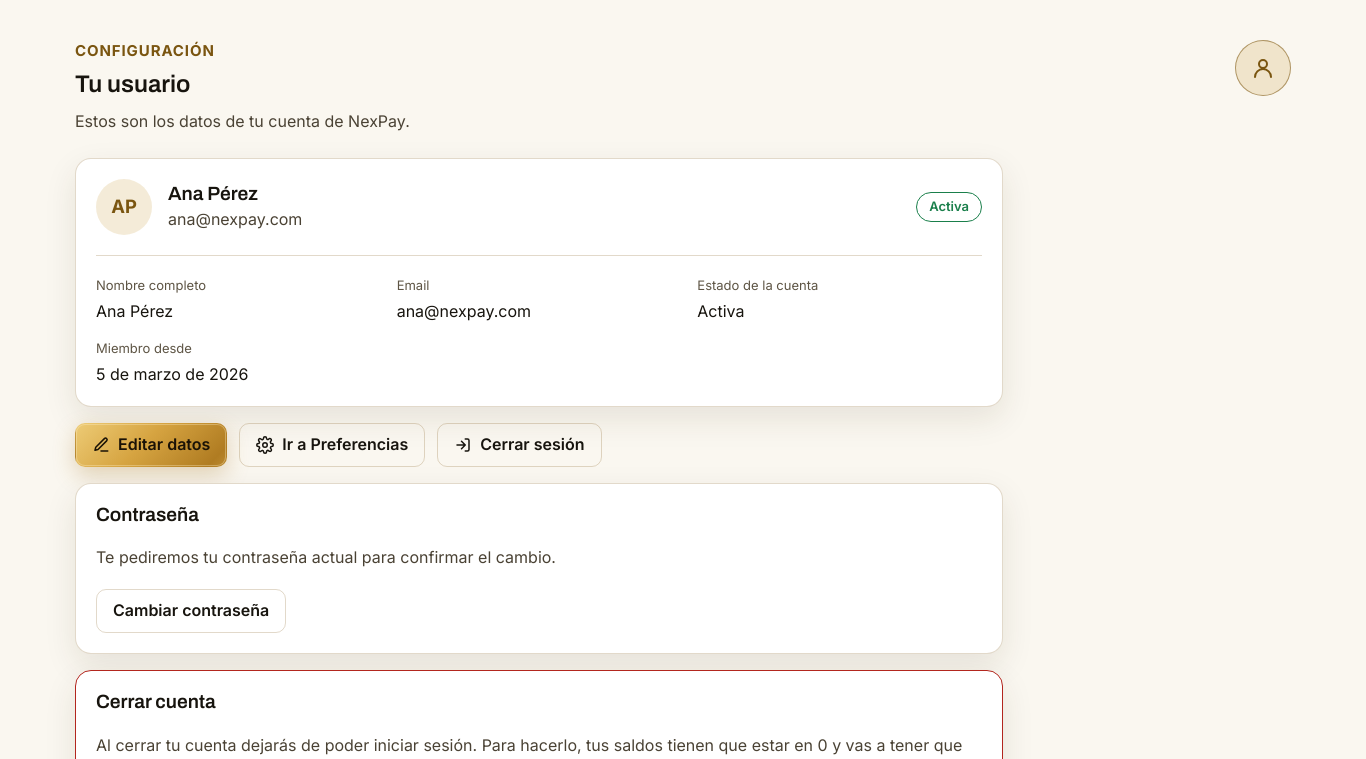
Usuario: editar datos › cambiar el email consulta su disponibilidad y lo envía
Click the button "Editar datos" at (151, 444), box [75,422,227,466]
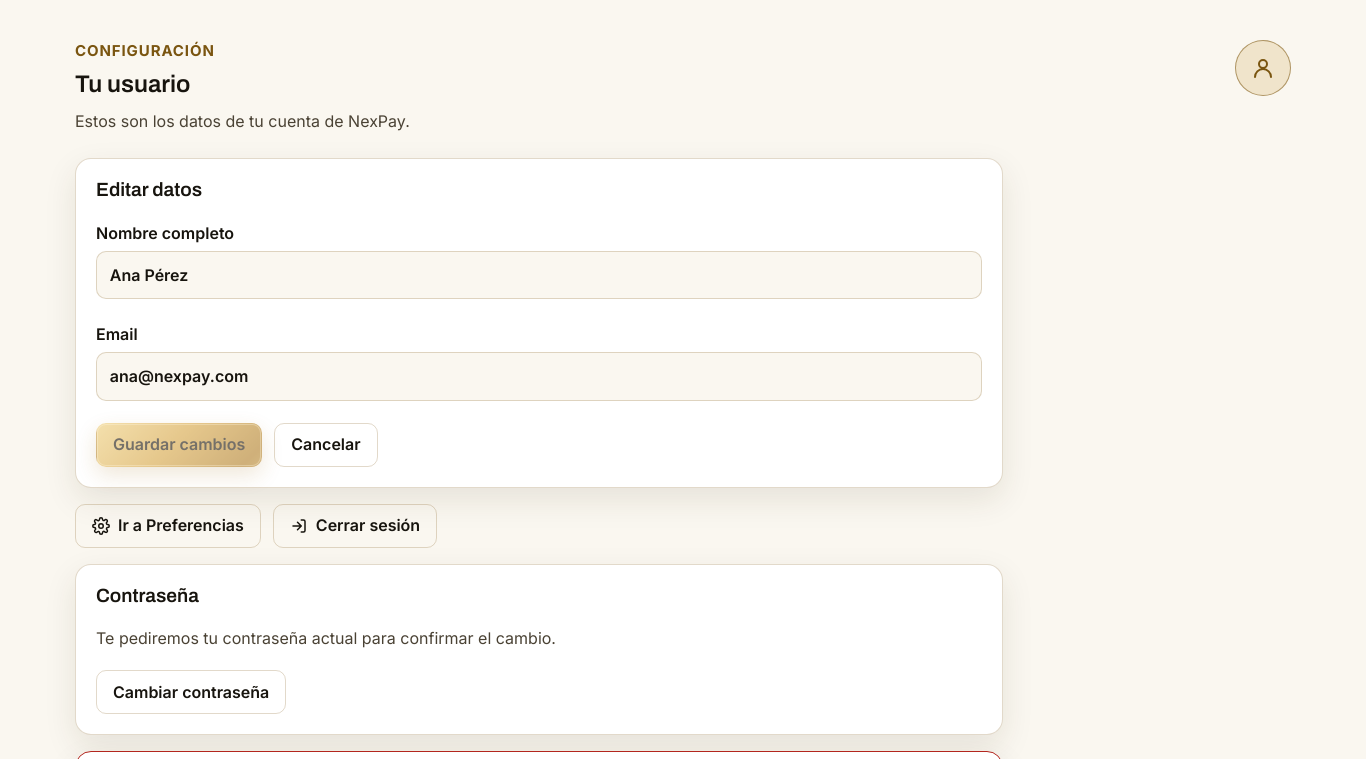
Replace the text in the field labelled "Email" with "nueva@nexpay.com" at (539, 376), box [96,352,982,401]
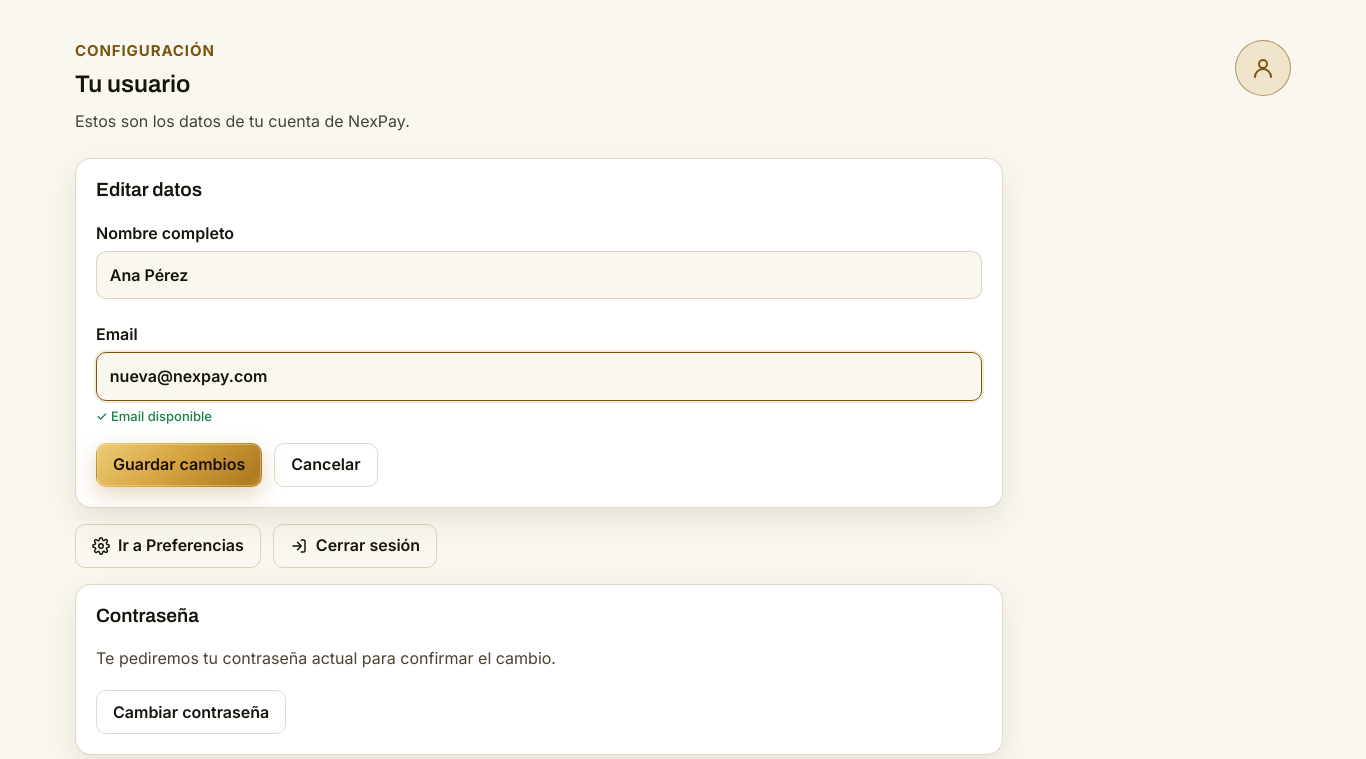
Expected: the text "✓ Email disponible" is shown, [96,408,212,424]
Click the button "Guardar cambios" at (179, 465), box [96,443,262,487]
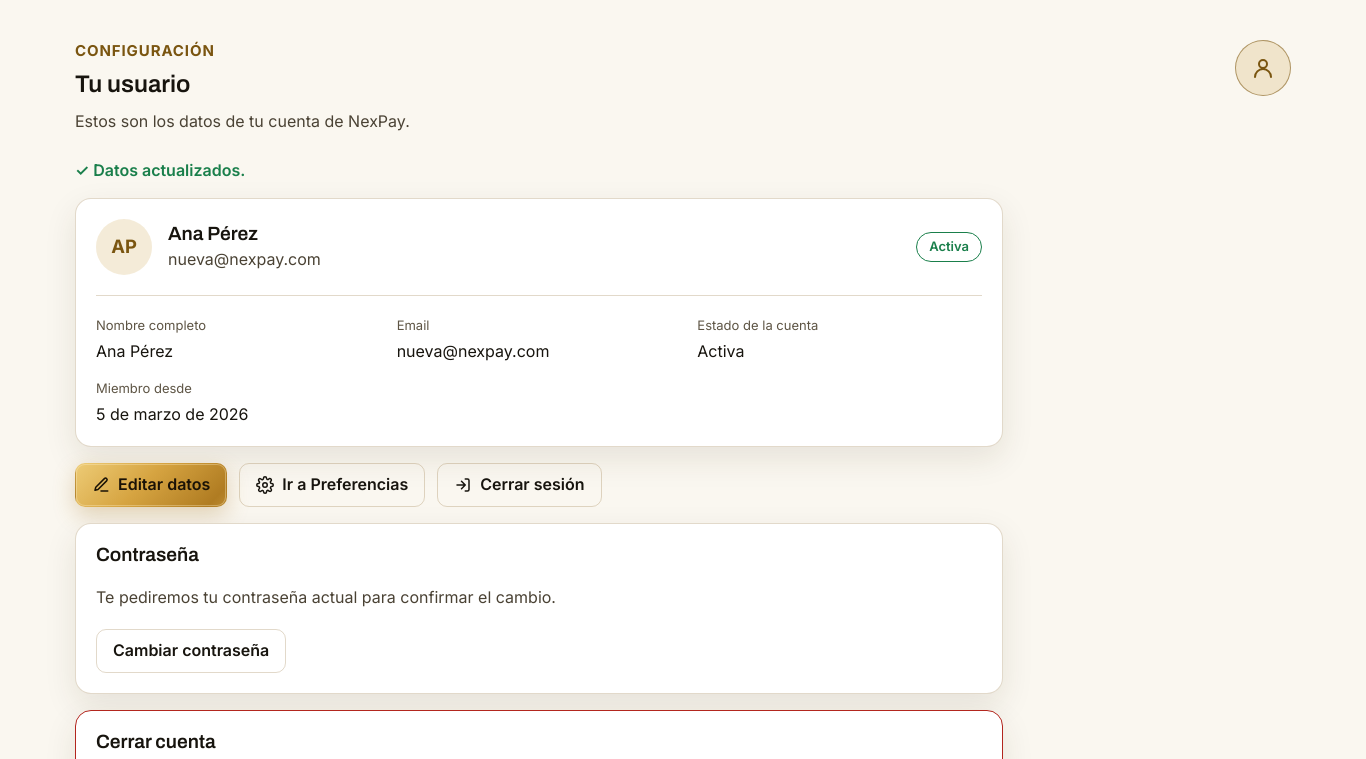
Expected: the text "nueva@nexpay.com" below "Email" is shown, [397,341,550,361]
